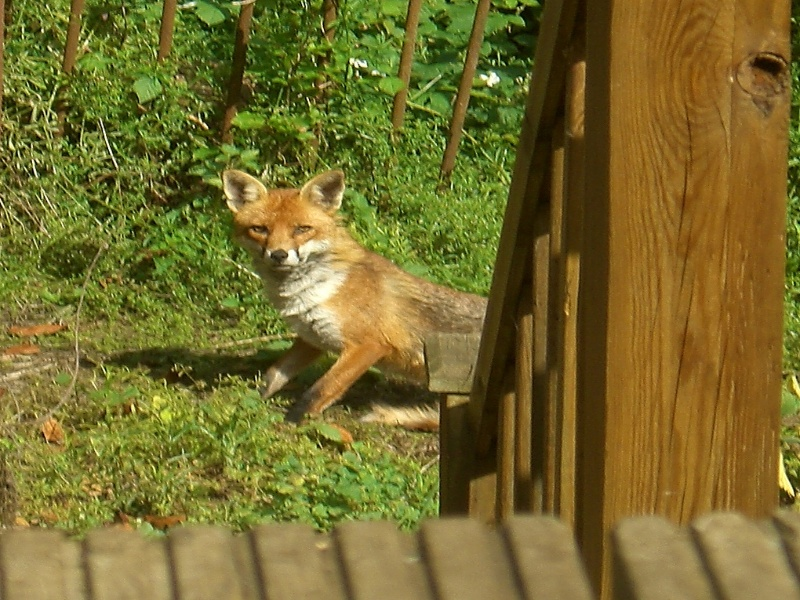fox: (219, 165, 499, 443)
